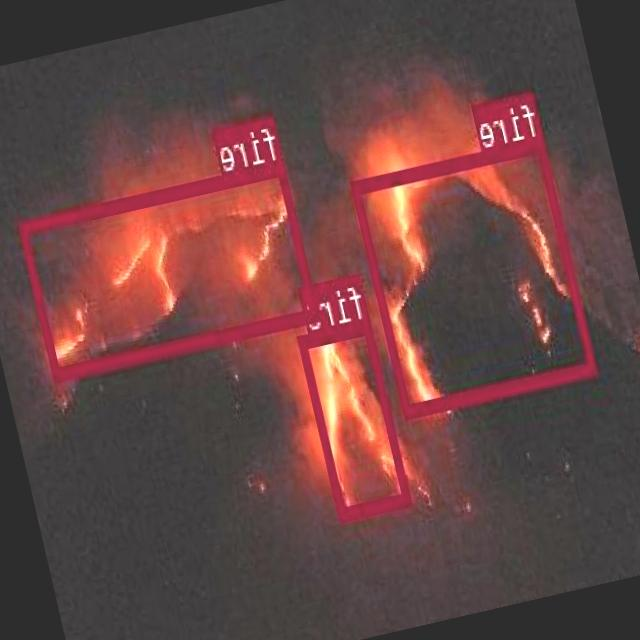fire: (352, 134, 598, 416), (19, 158, 320, 378), (298, 316, 412, 518)
